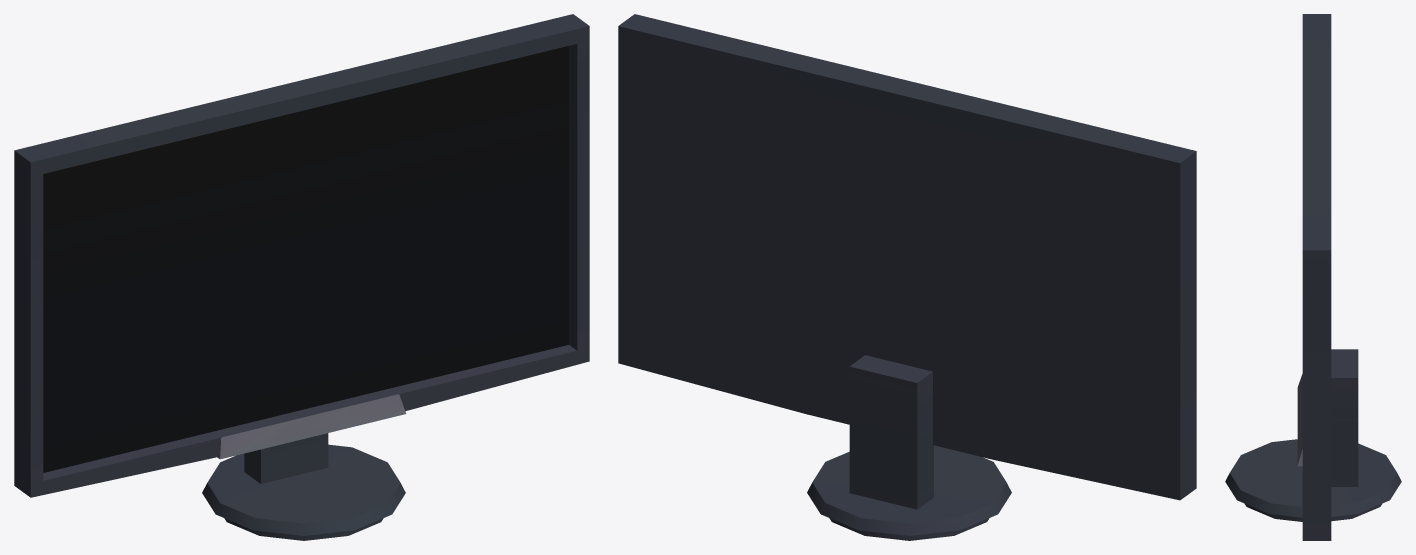
File: monotor.fbx
3 views of the same model, side by side, from view 1: azimuth 30°, elevation 25°; view 2: azimuth 150°, elevation 25°; view 3: azimuth 270°, elevation 25° (orthographic). The views are drawn at different scales.
Parts seen in each view (by area): view 1: Cylinder.003; view 2: Cylinder.003; view 3: Cylinder.003.
Part boxes in pixels (box(x1,y1,x2,y2)): Cylinder.003: box(14, 14, 589, 540); Cylinder.003: box(618, 14, 1196, 540); Cylinder.003: box(1225, 14, 1401, 540).
Size of the model in its own units: 222 by 157 by 70.25.
